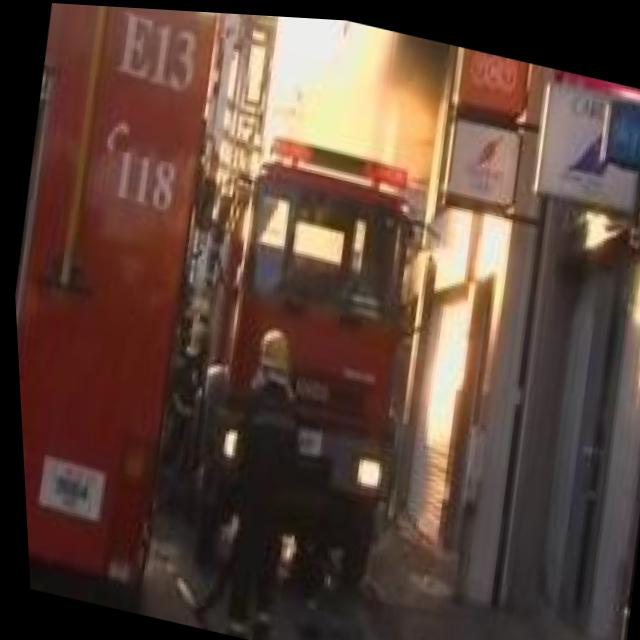fire: (225, 10, 364, 154)
